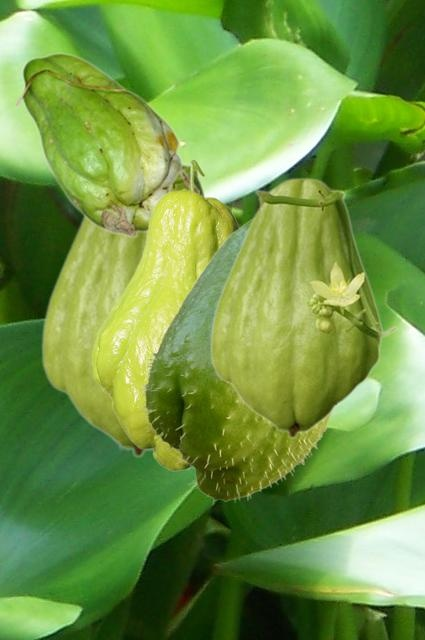sayote: (138, 219, 335, 504), (40, 161, 207, 457), (209, 177, 398, 438), (91, 159, 239, 470), (13, 52, 198, 237)
